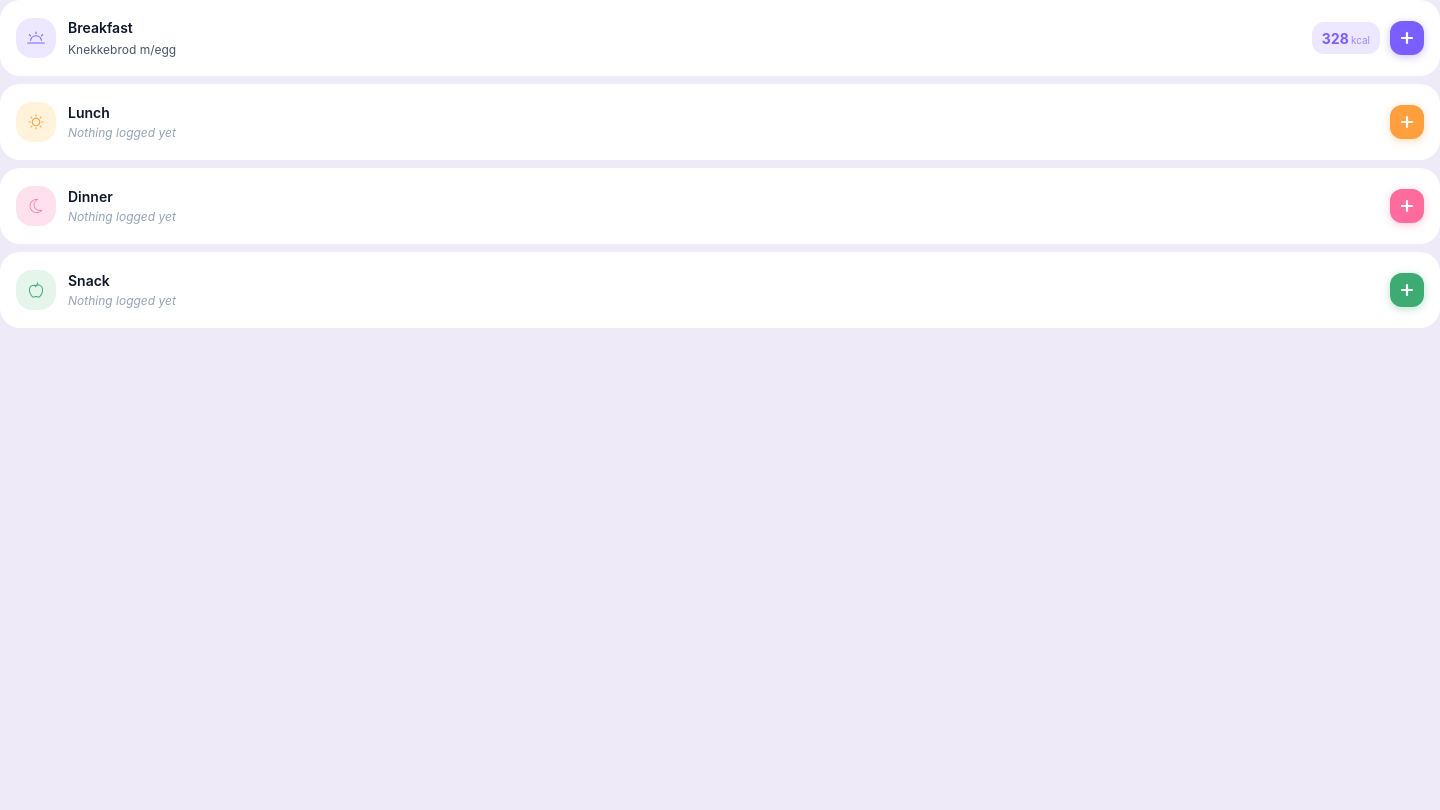
MealSlots › opens the serving bottom sheet from a logged meal row
Click the text "Breakfast". click: (100, 28)
box: [68, 19, 133, 36]
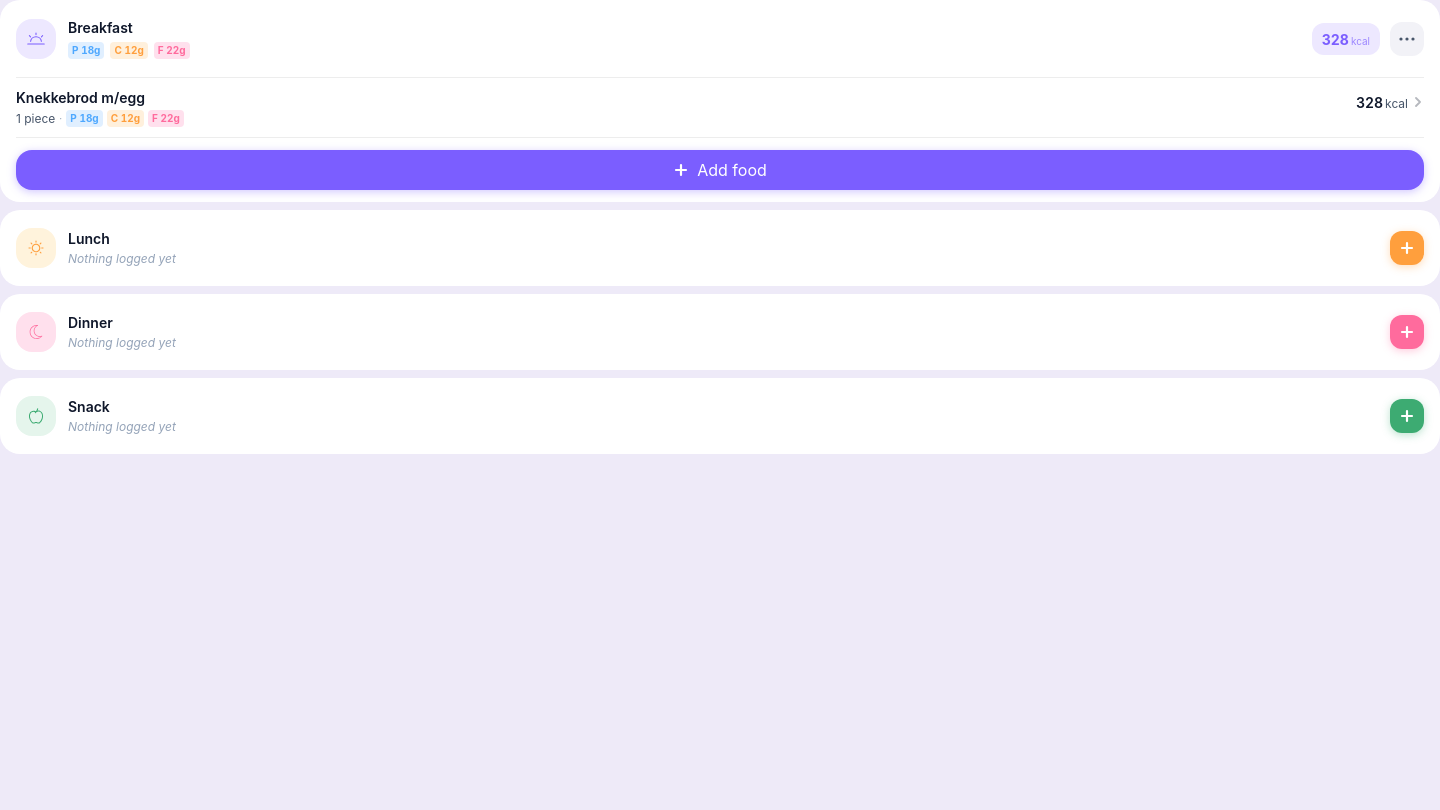
Expected: the text "1 piece" is shown, [16, 110, 55, 126]
Click the button with aria-label "Adjust serving for Knekkebrod m/egg". click: (81, 98)
box: [0, 78, 1439, 137]
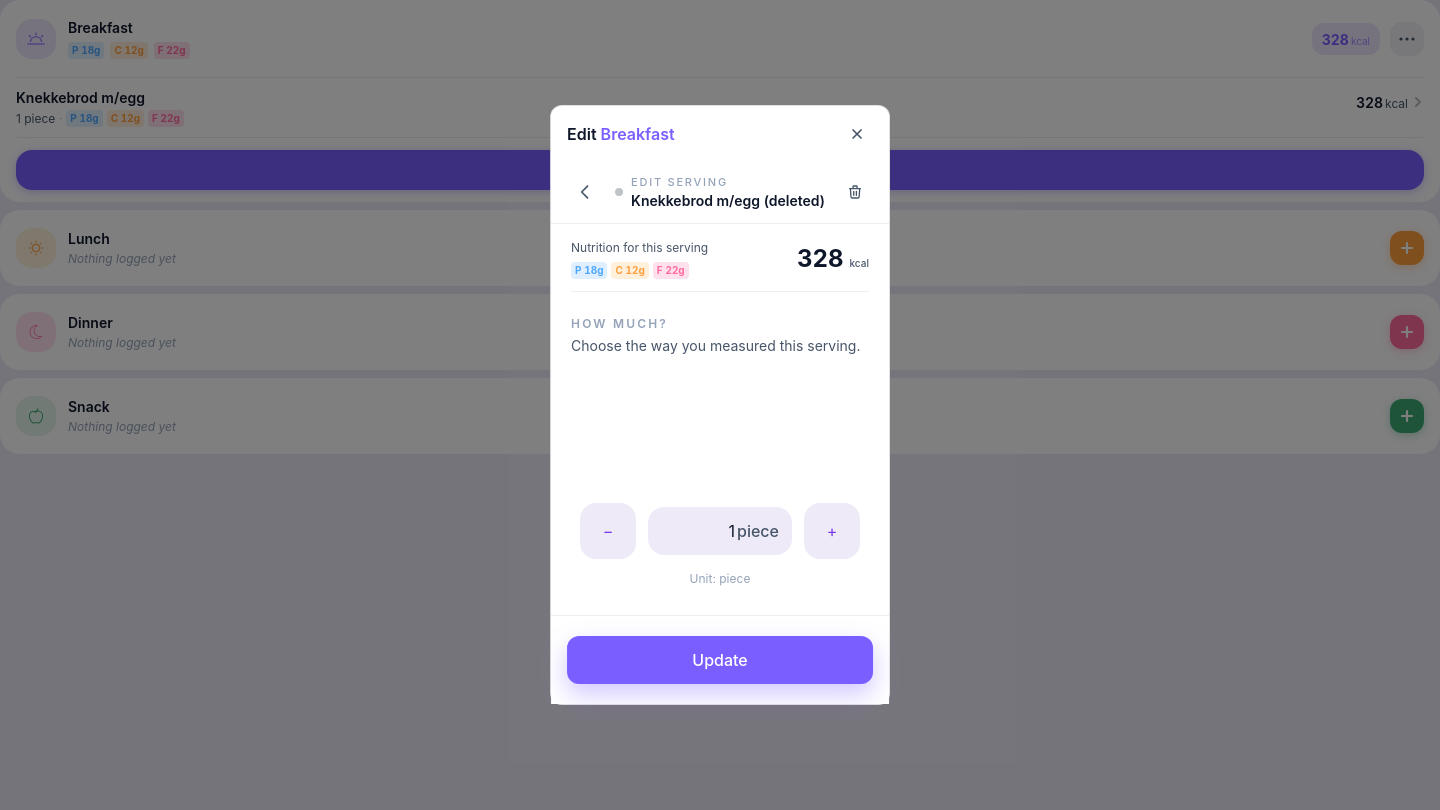
Expected: the dialog "Edit Breakfast" is shown, [550, 105, 890, 705]
